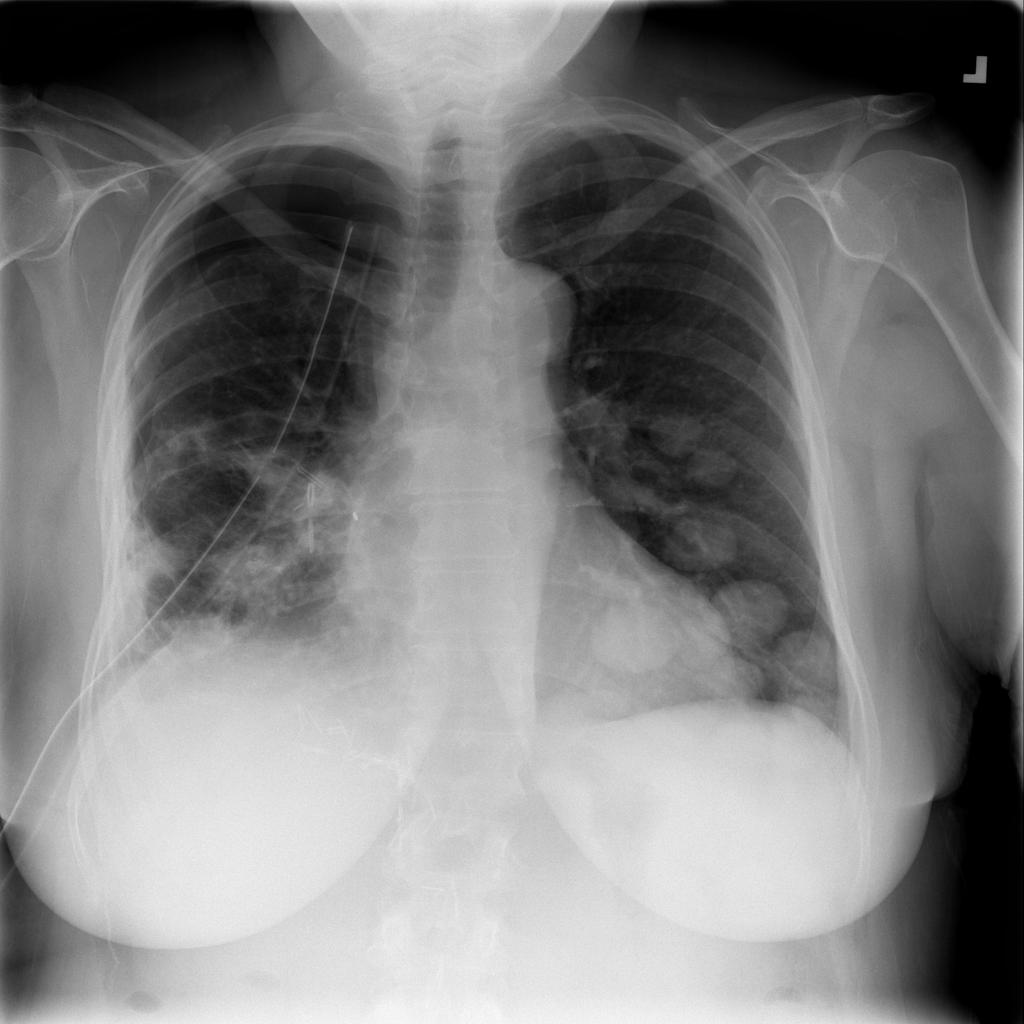nodule: (575, 581, 695, 679), (710, 572, 795, 647), (772, 627, 852, 702), (662, 506, 745, 572), (639, 395, 716, 464), (675, 599, 755, 664), (675, 434, 749, 504), (682, 642, 764, 703)
